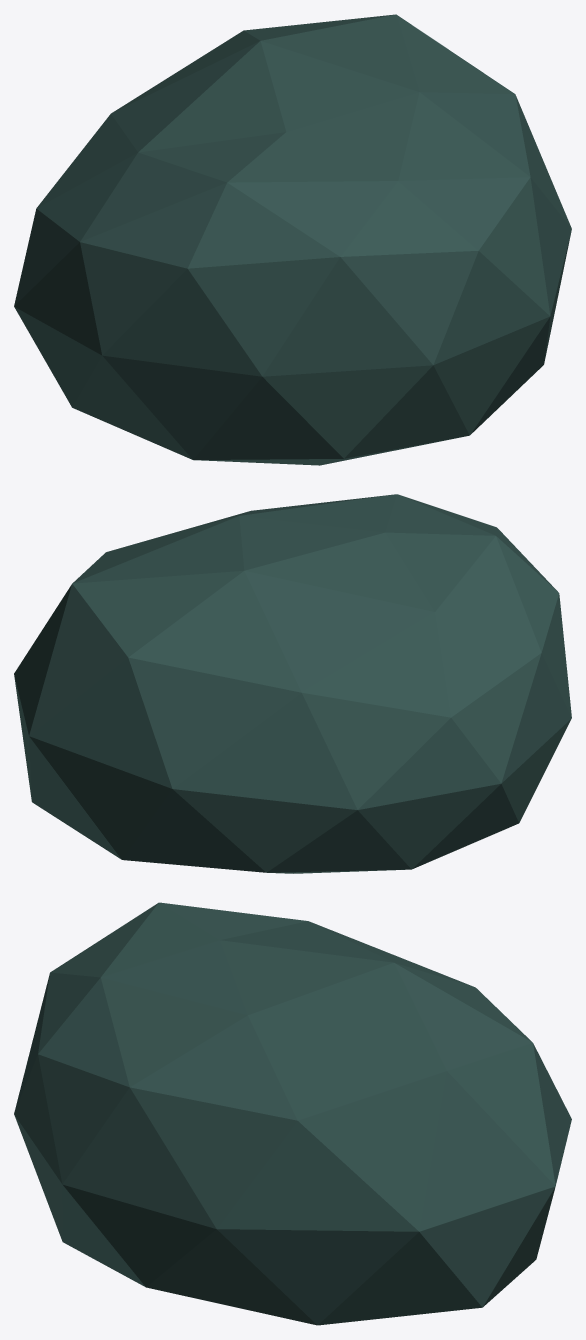
The model's file is stone.fbx.
3 views of the same model, one above another, from view 1: azimuth 30°, elevation 25°; view 2: azimuth 150°, elevation 25°; view 3: azimuth 270°, elevation 25° (orthographic). The views are drawn at different scales.
Parts seen in each view (by area): view 1: stone; view 2: stone; view 3: stone.
Part boxes in pixels (x1=…): stone: x1=14, y1=14, x2=571, y2=465; stone: x1=14, y1=494, x2=571, y2=873; stone: x1=14, y1=902, x2=571, y2=1325.
Size of the model in its own units: 99.74 by 59.06 by 99.39.
